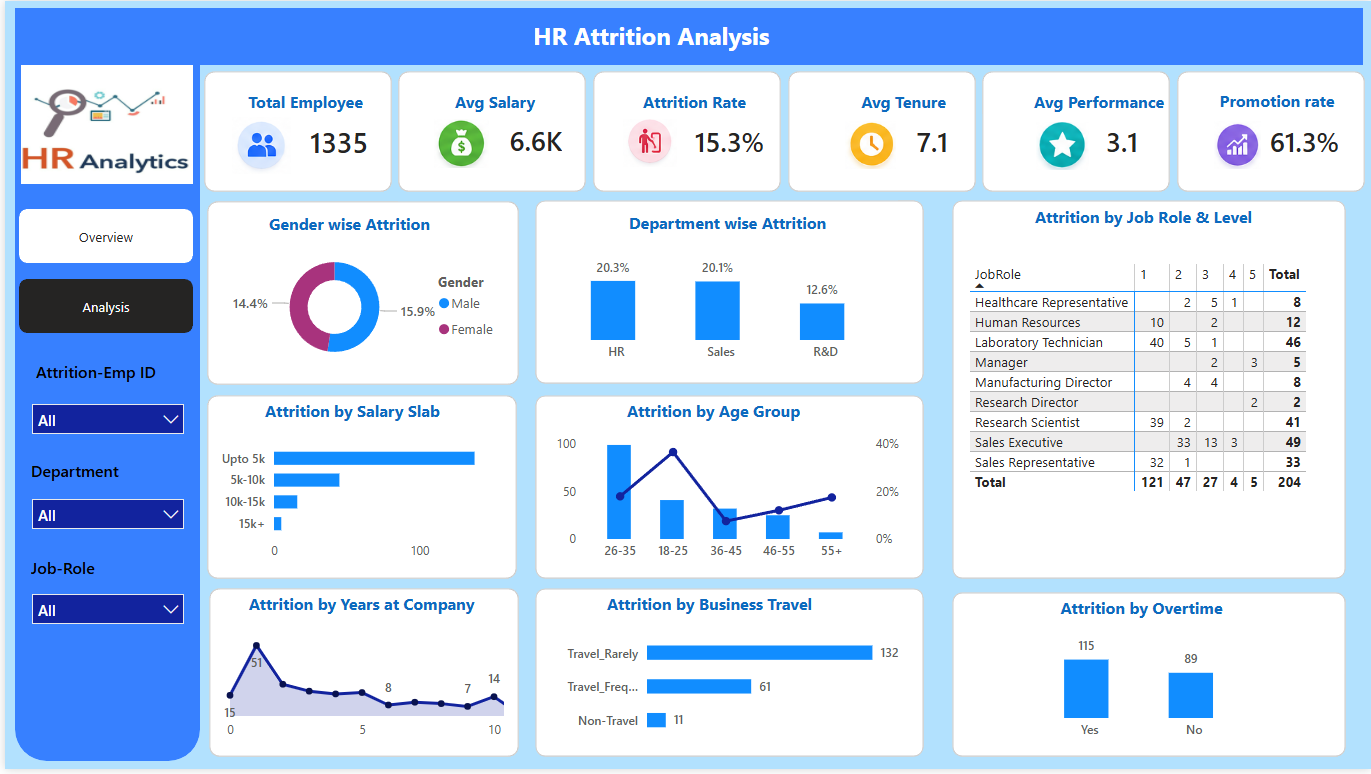

The dashboard page shown, as its layout file describes it:
{"tool":"powerbi","page":{"name":"Analysis ","canvas":[1366,768],"ordinal":1},"visuals":[{"type":"shape","box":[947,591,394,165],"z":0},{"type":"shape","box":[204,587,310,169],"z":1000},{"type":"shape","box":[10,7,1348,57],"z":2000},{"type":"shape","box":[10,63.6,184.5,696.4],"z":3000},{"type":"textbox","box":[433.6,12.7,431.8,45.5],"z":4000},{"type":"shape","box":[198.5,70,188.2,120.9],"z":5000},{"type":"cardVisual","fields":{"Data":["Measure..Total Employee"]},"box":[281.8,110.9,104.5,56.4],"z":6000},{"type":"textbox","box":[214.5,84.5,171.8,31.8],"z":7000},{"type":"image","box":[227.3,116.4,59.1,56.4],"z":8000},{"type":"shape","box":[393.2,70,188.2,120.9],"z":9000},{"type":"cardVisual","fields":{"Data":["Measure..Avg Salary"]},"box":[483.6,103.6,90,68.2],"z":10000},{"type":"textbox","box":[410,85,160,31],"z":11000},{"type":"image","box":[429.1,116.4,54.5,52.7],"z":12000},{"type":"shape","box":[587.9,70,188.2,120.9],"z":13000},{"type":"cardVisual","fields":{"Data":["Measure..Attrition rate"]},"box":[671.7,110.9,104.5,56.4],"z":14000},{"type":"textbox","box":[602.6,84.5,173.6,31.8],"z":15000},{"type":"image","box":[618.1,116.4,53.6,50.9],"z":16000},{"type":"shape","box":[782.6,70,188.2,120.9],"z":17000},{"type":"cardVisual","fields":{"Data":["Measure..Avg Employee Tenure"]},"box":[891.8,112.7,68.2,50.9],"z":18000},{"type":"textbox","box":[811.8,84.5,173.6,31.8],"z":19000},{"type":"image","box":[839.1,120,52.7,48.2],"z":20000},{"type":"shape","box":[977.3,70,188.2,120.9],"z":21000},{"type":"cardVisual","fields":{"Data":["Measure..Avg Performance rating"]},"box":[1069,113,81,51],"z":22000},{"type":"textbox","box":[1007,85,174,35],"z":23000},{"type":"image","box":[1031,121,53,48],"z":24000},{"type":"shape","box":[1171.8,70,188.2,120.9],"z":25000},{"type":"cardVisual","fields":{"Data":["Measure..Promotion rate"]},"box":[1240,113,111,51],"z":26000},{"type":"textbox","box":[1185,84,174,35],"z":27000},{"type":"image","box":[1206,120,53,48],"z":28000},{"type":"pageNavigator","box":[14,208,174,124],"z":29000},{"type":"shape","box":[202,200,312,184],"z":30000},{"type":"donutChart","fields":{"Category":["hr_attrition_db hr_data_clean.Gender"],"Y":["Measure..Attrition rate"]},"box":[221,242,283,128],"z":31000},{"type":"textbox","box":[221,207,247,35],"z":32000},{"type":"shape","box":[530,199,389,184],"z":33000},{"type":"columnChart","fields":{"Y":["Measure..Attrition rate"],"Category":["hr_attrition_db hr_data_clean.Department"]},"box":[539,241,354,128],"z":34000},{"type":"textbox","box":[589,206,267,35],"z":35000},{"type":"shape","box":[202,394,310,184],"z":36000},{"type":"barChart","fields":{"Category":["hr_attrition_db hr_data_clean.SalarySlab"],"Y":["Measure..Attrition"]},"box":[210,429,292,139],"z":37000},{"type":"textbox","box":[213,394,269,35],"z":38000},{"type":"shape","box":[947,199,394,379],"z":39000},{"type":"pivotTable","fields":{"Values":["Measure..Attrition"],"Rows":["hr_attrition_db hr_data_clean.JobRole"],"Columns":["hr_attrition_db hr_data_clean.JobLevel"]},"box":[960,258,368,293],"z":40000},{"type":"shape","box":[530,394,389,184],"z":41000},{"type":"lineClusteredColumnComboChart","fields":{"Category":["hr_attrition_db hr_data_clean.AgeGroup"],"Y2":["Measure..Attrition rate"],"Y":["Measure..Attrition"]},"box":[546,429,353,139],"z":42000},{"type":"textbox","box":[574,394,269,35],"z":43000},{"type":"shape","box":[530,587,389,169],"z":44000},{"type":"barChart","fields":{"Category":["hr_attrition_db hr_data_clean.BusinessTravel"],"Y":["Measure..Attrition"]},"box":[539,618,360,129],"z":45000},{"type":"textbox","box":[570,587,269,35],"z":46000},{"type":"textbox","box":[1005,200,267,35],"z":47000},{"type":"areaChart","fields":{"Category":["hr_attrition_db hr_data_clean.YearsAtCompany"],"Y":["Measure..Attrition"]},"box":[210,618,294,129],"z":48000},{"type":"textbox","box":[222,587,269,35],"z":49000},{"type":"columnChart","fields":{"Category":["hr_attrition_db hr_data_clean.OverTime"],"Y":["Measure..Attrition"]},"box":[960,622,354,125],"z":50000},{"type":"textbox","box":[1002,591,269,35],"z":51000},{"type":"image","box":[16,64,172,119],"z":52000},{"type":"slicer","fields":{"Values":["hr_attrition_db hr_data_clean.EmpID"]},"box":[17,393,172,47],"z":53000},{"type":"textbox","box":[25.7,355,156,34],"z":54000},{"type":"slicer","fields":{"Values":["hr_attrition_db hr_data_clean.Department"]},"box":[17,488,172,45],"z":55000},{"type":"textbox","box":[20.7,454,166,32],"z":56000},{"type":"slicer","fields":{"Values":["hr_attrition_db hr_data_clean.JobLevel"]},"box":[17,583,172,45],"z":57000},{"type":"textbox","box":[20.7,551,166,32],"z":58000}]}

Visuals, with their boxes in screenshot pixels (x1, y1, x2, y2), scaled from the page's 1366x768 canvas onto the 1371x774 screenshot:
shape: locate(950, 596, 1346, 762)
shape: locate(205, 592, 516, 762)
shape: locate(10, 7, 1363, 64)
shape: locate(10, 64, 195, 766)
textbox: locate(435, 13, 869, 59)
shape: locate(199, 71, 388, 192)
cardVisual - Measure..Total Employee: locate(283, 112, 388, 169)
textbox: locate(215, 85, 388, 117)
image: locate(228, 117, 287, 174)
shape: locate(395, 71, 584, 192)
cardVisual - Measure..Avg Salary: locate(485, 104, 576, 173)
textbox: locate(412, 86, 572, 117)
image: locate(431, 117, 485, 170)
shape: locate(590, 71, 779, 192)
cardVisual - Measure..Attrition rate: locate(674, 112, 779, 169)
textbox: locate(605, 85, 779, 117)
image: locate(620, 117, 674, 169)
shape: locate(785, 71, 974, 192)
cardVisual - Measure..Avg Employee Tenure: locate(895, 114, 964, 165)
textbox: locate(815, 85, 989, 117)
image: locate(842, 121, 895, 170)
shape: locate(981, 71, 1170, 192)
cardVisual - Measure..Avg Performance rating: locate(1073, 114, 1154, 165)
textbox: locate(1011, 86, 1185, 121)
image: locate(1035, 122, 1088, 170)
shape: locate(1176, 71, 1365, 192)
cardVisual - Measure..Promotion rate: locate(1245, 114, 1356, 165)
textbox: locate(1189, 85, 1364, 120)
image: locate(1210, 121, 1264, 169)
pageNavigator: locate(14, 210, 189, 335)
shape: locate(203, 202, 516, 387)
donutChart - hr_attrition_db hr_data_clean.Gender x Measure..Attrition rate: locate(222, 244, 506, 373)
textbox: locate(222, 209, 470, 244)
shape: locate(532, 201, 922, 386)
columnChart - Measure..Attrition rate x hr_attrition_db hr_data_clean.Department: locate(541, 243, 896, 372)
textbox: locate(591, 208, 859, 243)
shape: locate(203, 397, 514, 583)
barChart - hr_attrition_db hr_data_clean.SalarySlab x Measure..Attrition: locate(211, 432, 504, 572)
textbox: locate(214, 397, 484, 432)
shape: locate(950, 201, 1346, 583)
pivotTable - Measure..Attrition x hr_attrition_db hr_data_clean.JobRole: locate(964, 260, 1333, 555)
shape: locate(532, 397, 922, 583)
lineClusteredColumnComboChart - hr_attrition_db hr_data_clean.AgeGroup x Measure..Attrition rate: locate(548, 432, 902, 572)
textbox: locate(576, 397, 846, 432)
shape: locate(532, 592, 922, 762)
barChart - hr_attrition_db hr_data_clean.BusinessTravel x Measure..Attrition: locate(541, 623, 902, 753)
textbox: locate(572, 592, 842, 627)
textbox: locate(1009, 202, 1277, 237)
areaChart - hr_attrition_db hr_data_clean.YearsAtCompany x Measure..Attrition: locate(211, 623, 506, 753)
textbox: locate(223, 592, 493, 627)
columnChart - hr_attrition_db hr_data_clean.OverTime x Measure..Attrition: locate(964, 627, 1319, 753)
textbox: locate(1006, 596, 1276, 631)
image: locate(16, 64, 189, 184)
slicer - hr_attrition_db hr_data_clean.EmpID: locate(17, 396, 190, 443)
textbox: locate(26, 358, 182, 392)
slicer - hr_attrition_db hr_data_clean.Department: locate(17, 492, 190, 537)
textbox: locate(21, 458, 187, 490)
slicer - hr_attrition_db hr_data_clean.JobLevel: locate(17, 588, 190, 633)
textbox: locate(21, 555, 187, 588)
